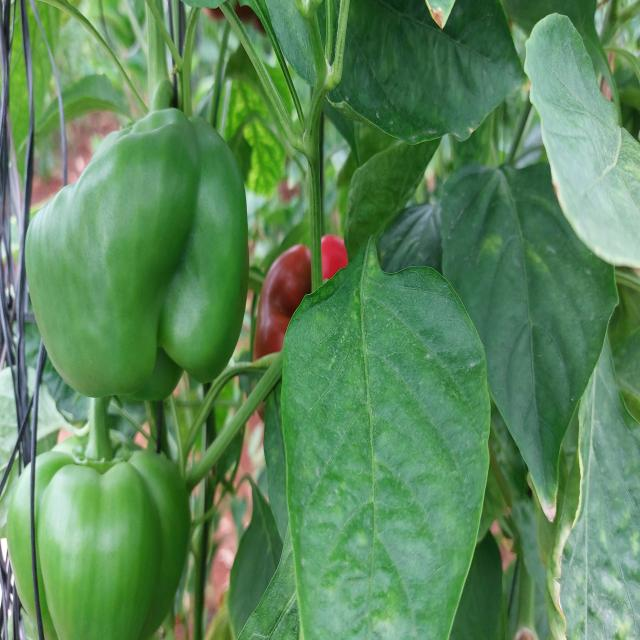Green--Not-ready-to-harvest: (28, 120, 250, 413), (8, 459, 197, 640)
Red-Ready-to-Harvest: (260, 238, 345, 376)
